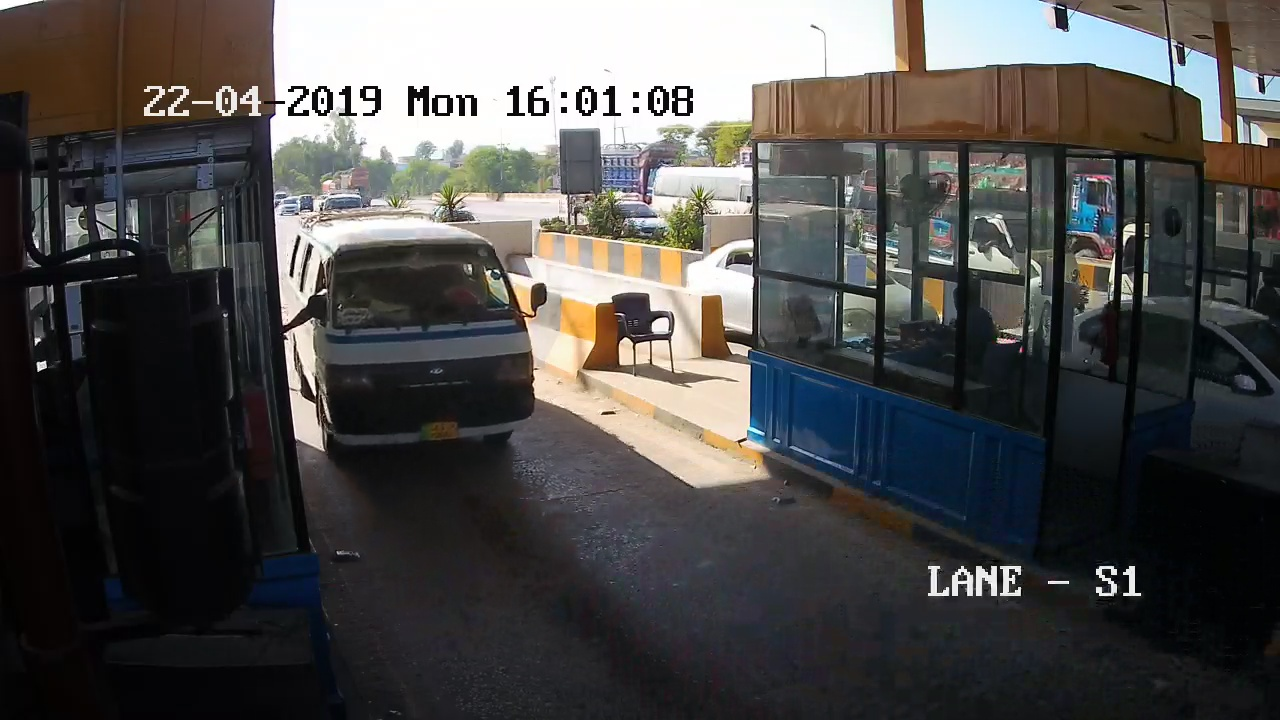car: (279, 189, 569, 491)
